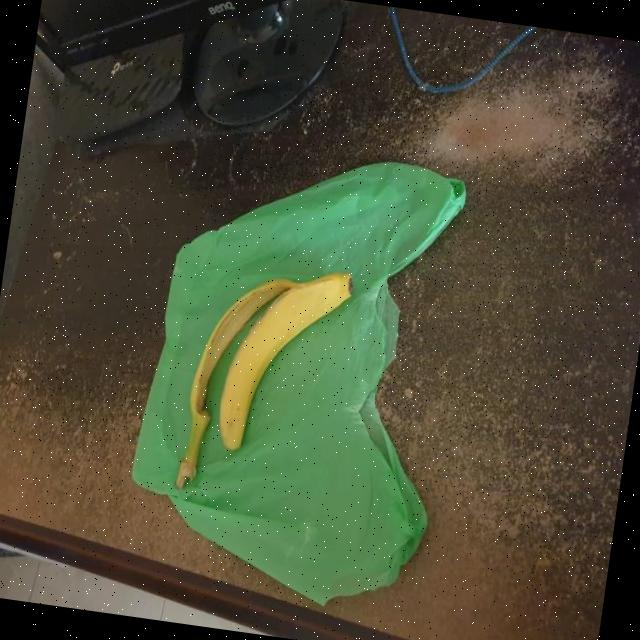banana-peel: (171, 251, 356, 509)
